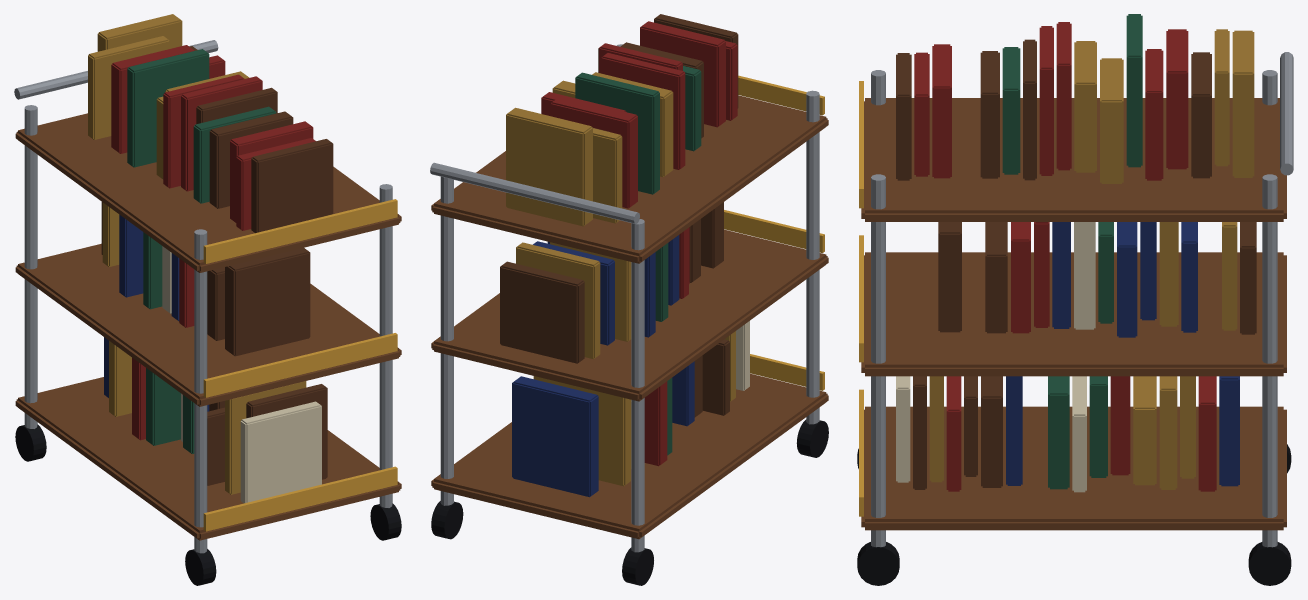
The model's file is cart.glb.
3 views of the same model, side by side, from view 1: azimuth 30°, elevation 25°; view 2: azimuth 150°, elevation 25°; view 3: azimuth 270°, elevation 25° (orthographic). The views are drawn at different scales.
Parts seen in each view (by area): view 1: cart_books, cart_wood, cart_steel, cart_brass, cart_dark; view 2: cart_books, cart_wood, cart_steel, cart_brass, cart_dark; view 3: cart_books, cart_wood, cart_steel, cart_dark, cart_brass.
Boxes of the visible parts, x1,y1,x2,y2 form: cart_books: (88, 14, 333, 503); cart_wood: (15, 113, 401, 540); cart_steel: (14, 40, 392, 553); cart_brass: (203, 199, 397, 531); cart_dark: (15, 424, 401, 585); cart_books: (500, 14, 749, 497); cart_wood: (431, 95, 828, 539); cart_steel: (430, 44, 819, 552); cart_brass: (724, 75, 824, 390); cart_dark: (431, 419, 828, 585); cart_books: (896, 14, 1256, 492); cart_wood: (861, 98, 1286, 530); cart_steel: (871, 52, 1293, 547); cart_dark: (857, 444, 1291, 585); cart_brass: (859, 81, 863, 516).
Size of the model in its own units: 0.64 by 1.26 by 1.03.
